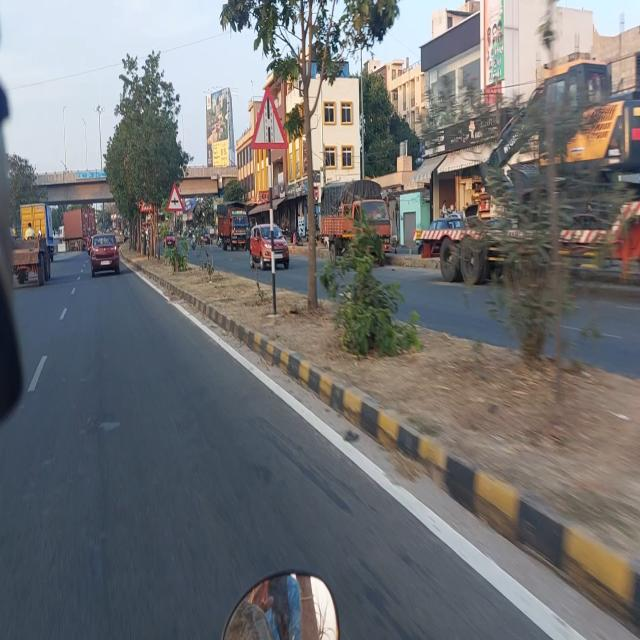bien_cam: (249, 85, 289, 150), (165, 180, 186, 213)
